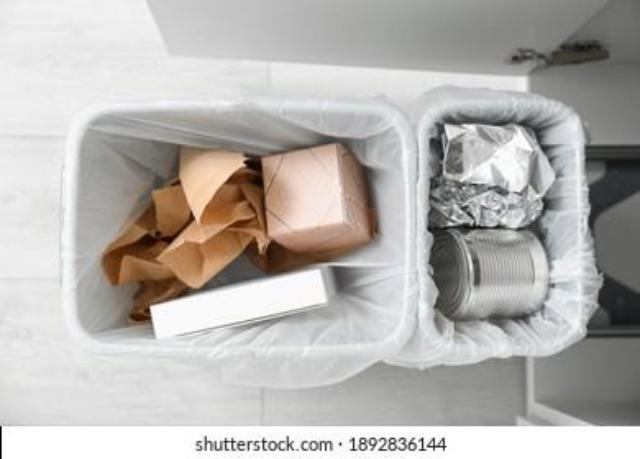Garbage: (87, 115, 579, 337)
Metal: (430, 229, 549, 320)
Plastic_Bag: (430, 124, 555, 228)
contaminated_waste: (436, 224, 551, 321)
